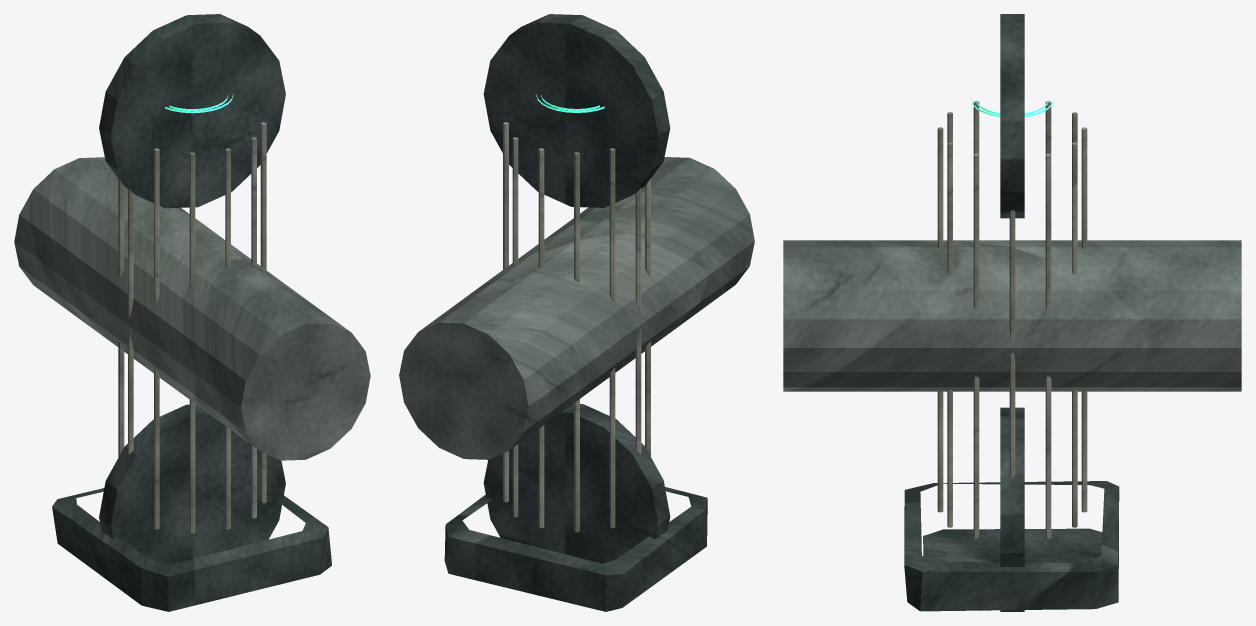
File: 0277_fluted_column_02.glb
3 renders of one model, left to right at view 1: azimuth 30°, elevation 25°; view 2: azimuth 150°, elevation 25°; view 3: azimuth 270°, elevation 25°, orthographic.
Visible parts, largest first — view 1: stone_dark, stone, stone_light; view 2: stone_dark, stone, stone_light; view 3: stone, stone_dark, stone_light.
Part boxes in pixels (x1,y1,x2,y2): stone_dark: (52, 14, 331, 611); stone: (14, 157, 370, 460); stone_light: (118, 122, 266, 533); stone_dark: (444, 14, 707, 611); stone: (399, 157, 754, 459); stone_light: (503, 122, 650, 532); stone: (783, 240, 1241, 391); stone_dark: (904, 14, 1119, 611); stone_light: (937, 101, 1087, 538).
Bounding box in the file's own units: 1.28 × 3.73 × 2.67.
Materials: 4 (4 with a texture image).
